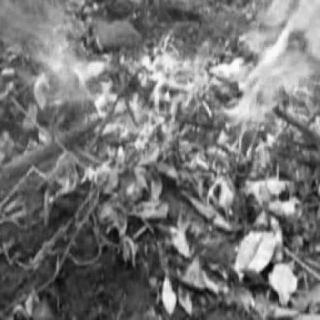Fire: (68, 0, 320, 184)
